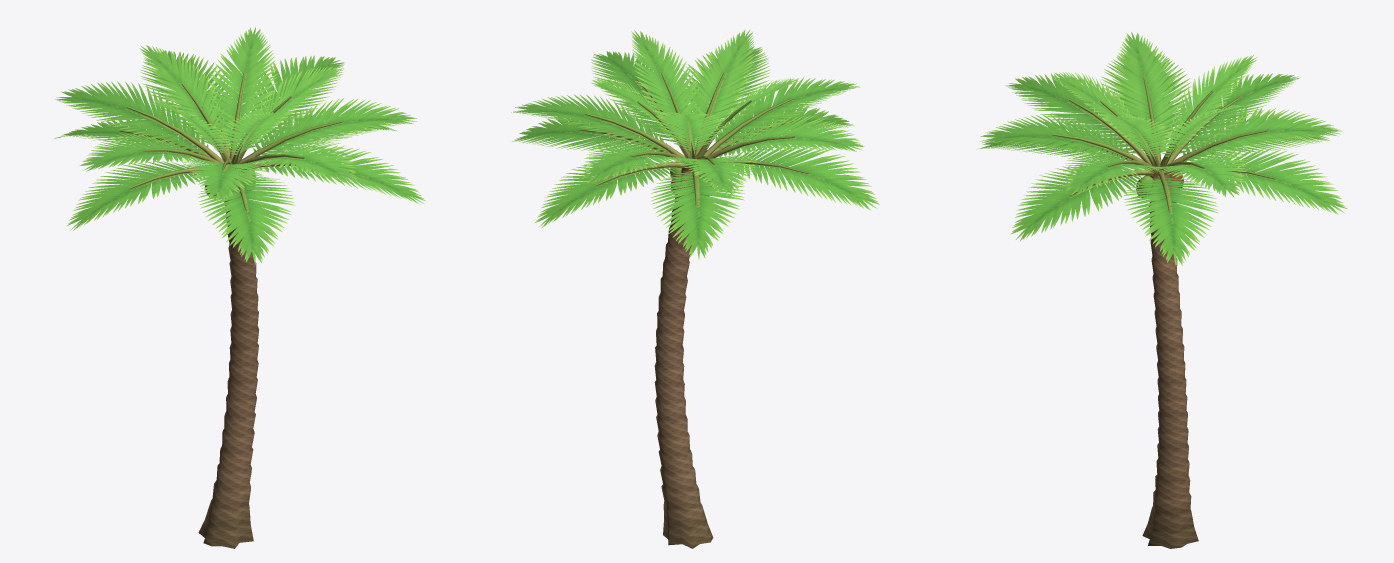
The model's file is palm.glb.
The picture shows the model from 3 angles, left to right: view 1: azimuth 30°, elevation 25°; view 2: azimuth 150°, elevation 25°; view 3: azimuth 270°, elevation 25°; orthographic projection.
Parts seen in each view (by area): view 1: canopy-foliage, PalmTrunk, PalmCoconuts; view 2: canopy-foliage, PalmTrunk, PalmCoconuts; view 3: canopy-foliage, PalmTrunk, PalmCoconuts.
Part boxes in pixels (x1=…): canopy-foliage: x1=54, y1=27, x2=425, y2=264; PalmTrunk: x1=198, y1=171, x2=258, y2=548; PalmCoconuts: x1=119, y1=73, x2=351, y2=210; canopy-foliage: x1=511, y1=29, x2=879, y2=259; PalmTrunk: x1=654, y1=165, x2=713, y2=548; PalmCoconuts: x1=580, y1=72, x2=809, y2=205; canopy-foliage: x1=977, y1=32, x2=1347, y2=266; PalmTrunk: x1=1142, y1=172, x2=1198, y2=548; PalmCoconuts: x1=1052, y1=77, x2=1276, y2=212.
Size of the model in its own units: 4.39 by 5.3 by 4.4.
3 materials, 2 textured.
